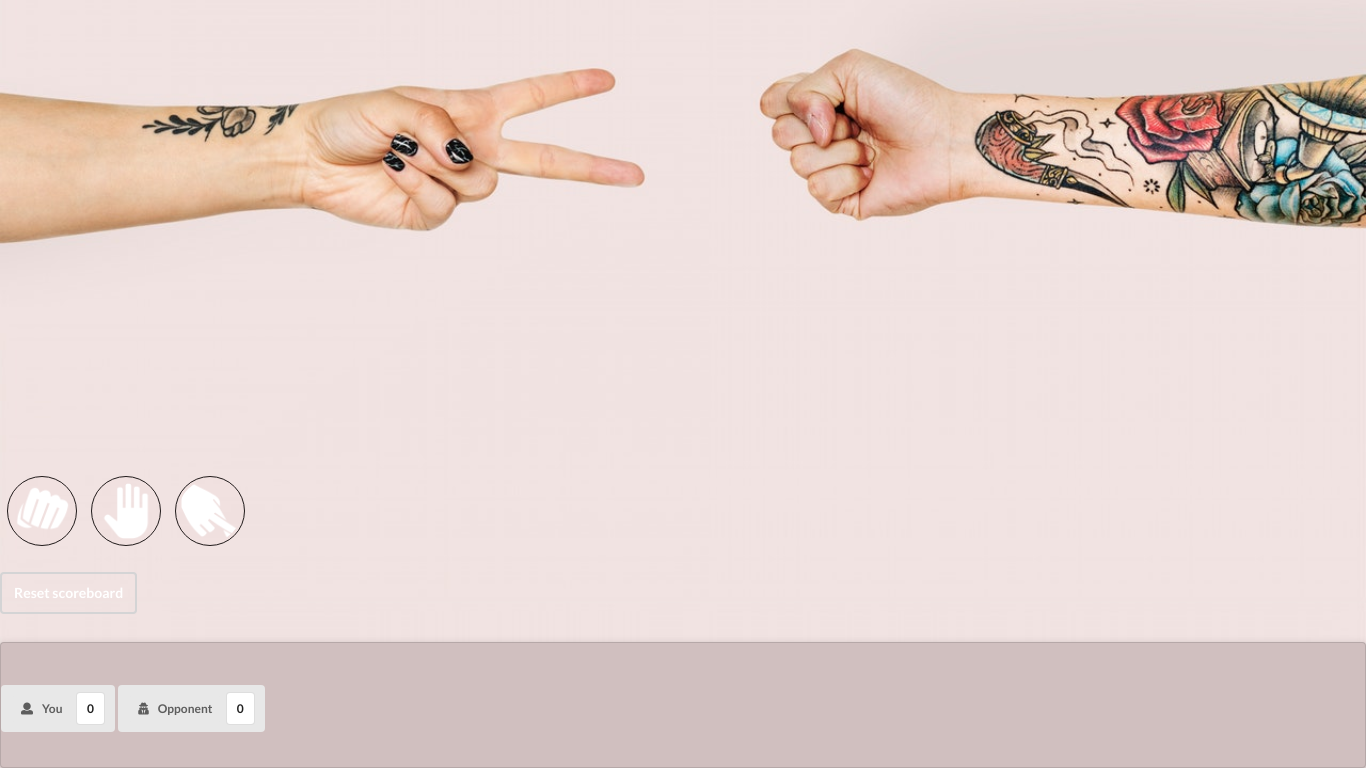
Scenario: <Game /> › shows a tied result if both player and computer choose rock
The width and height of the screenshot is (1366, 768).
(page scrolled)
Click the picture with id "rock-btn". click: (42, 511)
box: [7, 476, 77, 546]
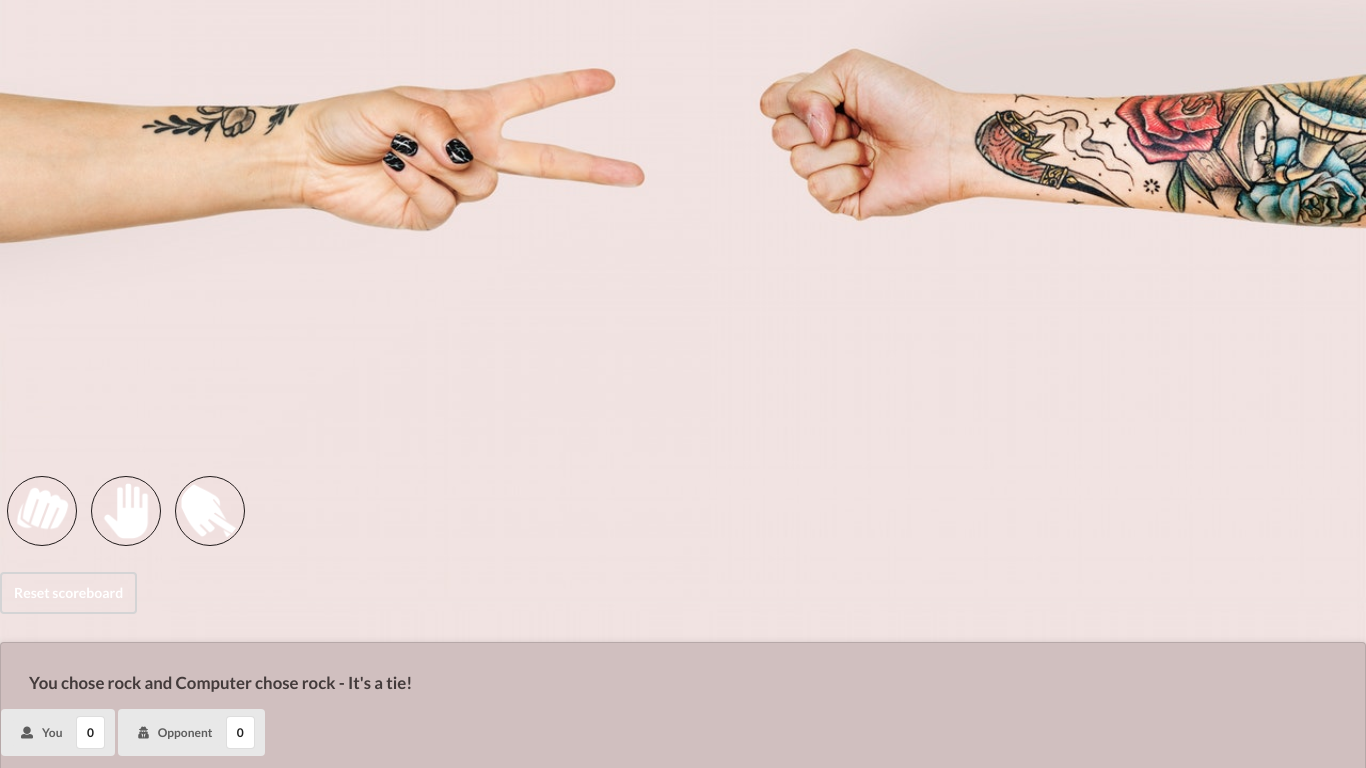
expect the text "You chose rock and Computer chose rock - It's a tie!" is shown: met, box [29, 672, 412, 693]
